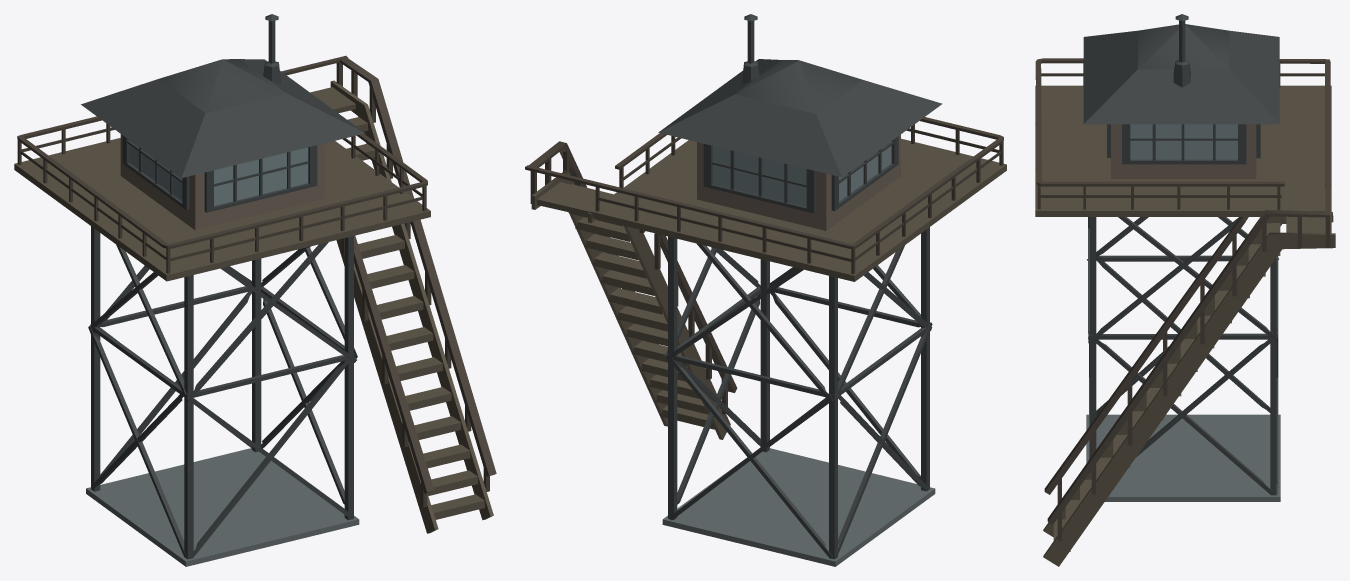
File: Firewatch_Tower_Export.fbx
3 renders of one model, left to right at view 1: azimuth 30°, elevation 25°; view 2: azimuth 150°, elevation 25°; view 3: azimuth 270°, elevation 25°, orthographic. The views are drawn at different scales.
Parts seen in each view (by area): view 1: FirewatchTower; view 2: FirewatchTower; view 3: FirewatchTower.
Boxes of the visible parts, box(x1,y1,x2,y2) form: FirewatchTower: box(14, 14, 496, 566); FirewatchTower: box(525, 14, 1006, 566); FirewatchTower: box(1035, 14, 1335, 566).
Bounding box in the file's own units: 11.74 × 16.52 × 9.33.
